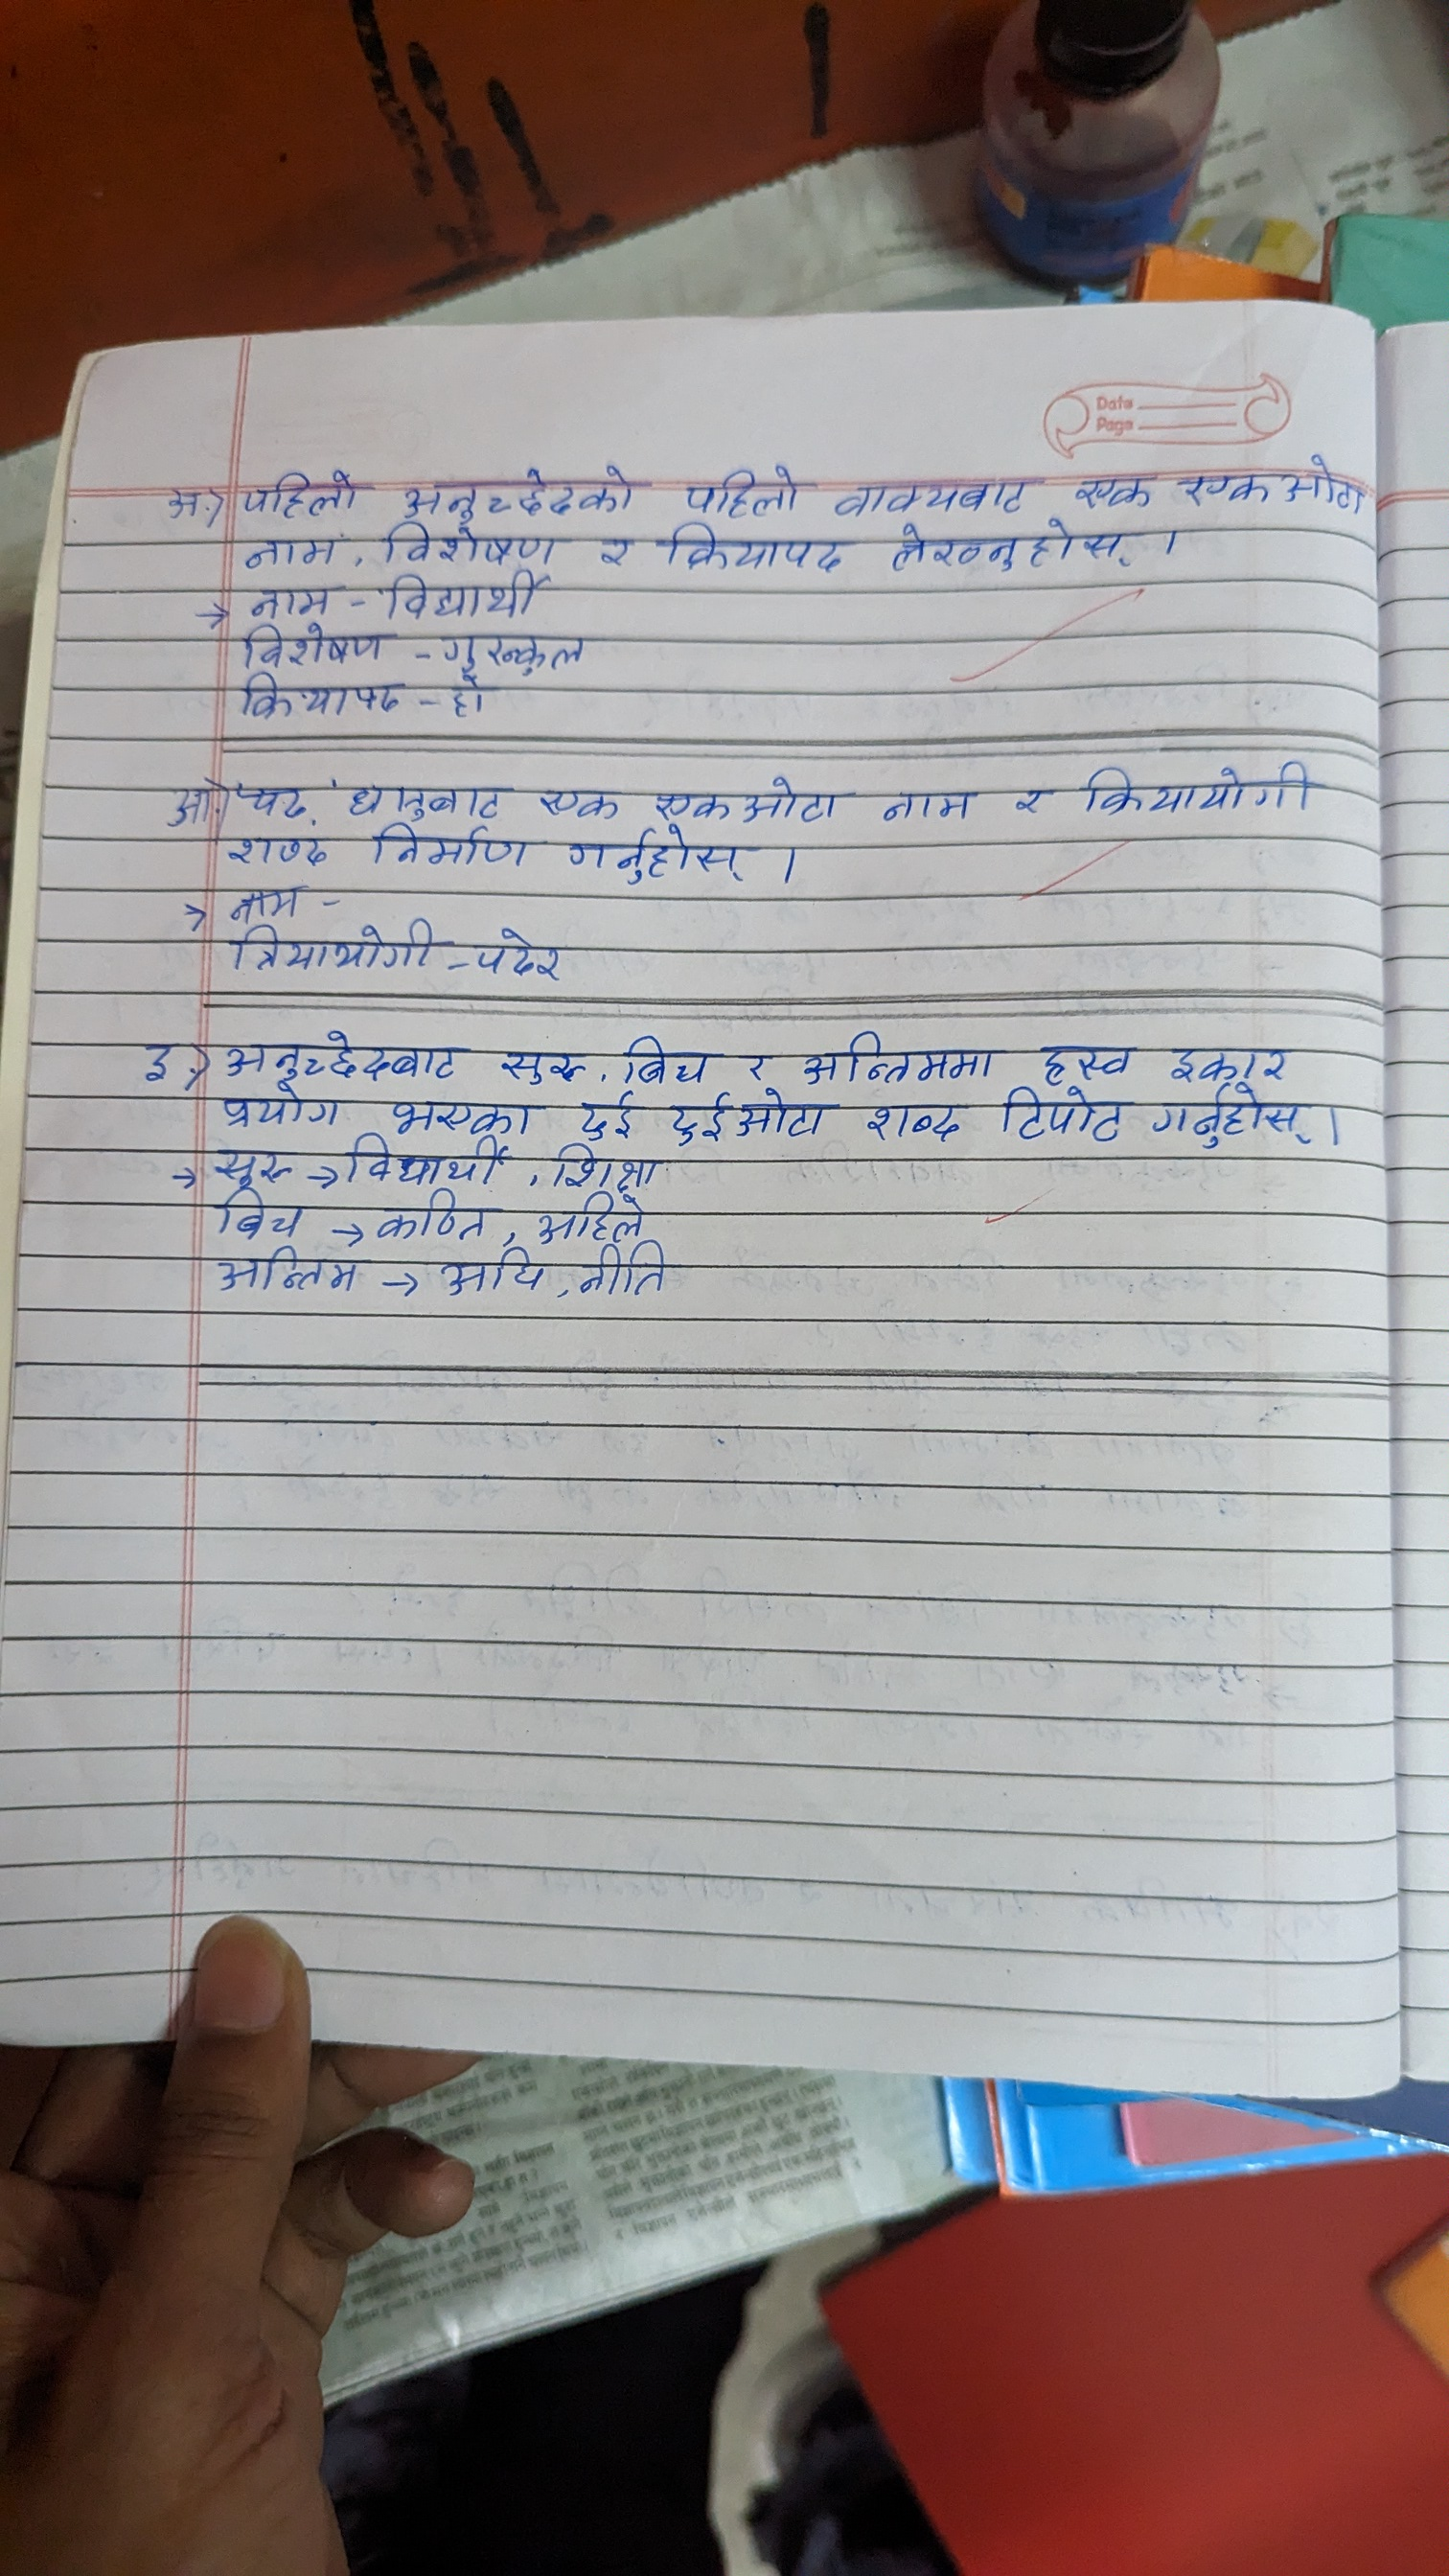text: (398, 456, 635, 520), (1074, 754, 1311, 812), (883, 524, 1136, 577), (1154, 1083, 1327, 1159), (219, 1026, 456, 1081), (1169, 451, 1369, 511), (225, 924, 437, 978), (559, 823, 745, 885), (646, 768, 846, 823), (828, 469, 1028, 520), (800, 1031, 993, 1079), (364, 824, 543, 876), (655, 522, 846, 570), (345, 768, 504, 821), (234, 672, 405, 720), (347, 1136, 502, 1187), (237, 458, 368, 518), (379, 570, 548, 616), (211, 1247, 363, 1299), (1000, 1086, 1131, 1145), (375, 522, 559, 563), (235, 619, 391, 665), (674, 460, 800, 517), (389, 1090, 545, 1134), (218, 1085, 349, 1136), (372, 1189, 492, 1244), (474, 924, 570, 993), (435, 628, 589, 671), (738, 1090, 839, 1152), (1155, 1035, 1293, 1079), (579, 1246, 679, 1304), (860, 1095, 966, 1148), (433, 1247, 548, 1295), (1030, 1030, 1136, 1081), (548, 1143, 662, 1191), (531, 1194, 648, 1240), (876, 778, 982, 828), (617, 1031, 709, 1085), (212, 1191, 308, 1240), (490, 1037, 584, 1085), (533, 778, 626, 821), (239, 770, 310, 823), (226, 833, 333, 869), (1067, 467, 1154, 510), (241, 533, 343, 568), (150, 476, 216, 529), (244, 577, 333, 616), (672, 1086, 729, 1145), (212, 1145, 292, 1185), (129, 1030, 177, 1097), (161, 775, 214, 835), (226, 883, 306, 918), (579, 1093, 637, 1139), (998, 777, 1051, 824), (444, 672, 492, 724), (738, 1042, 778, 1088), (596, 527, 633, 571)
